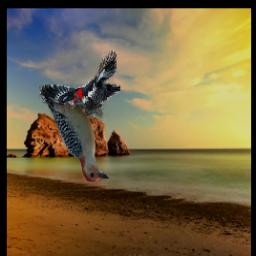Woodpecker: (41, 93, 110, 183), (40, 52, 121, 115)
